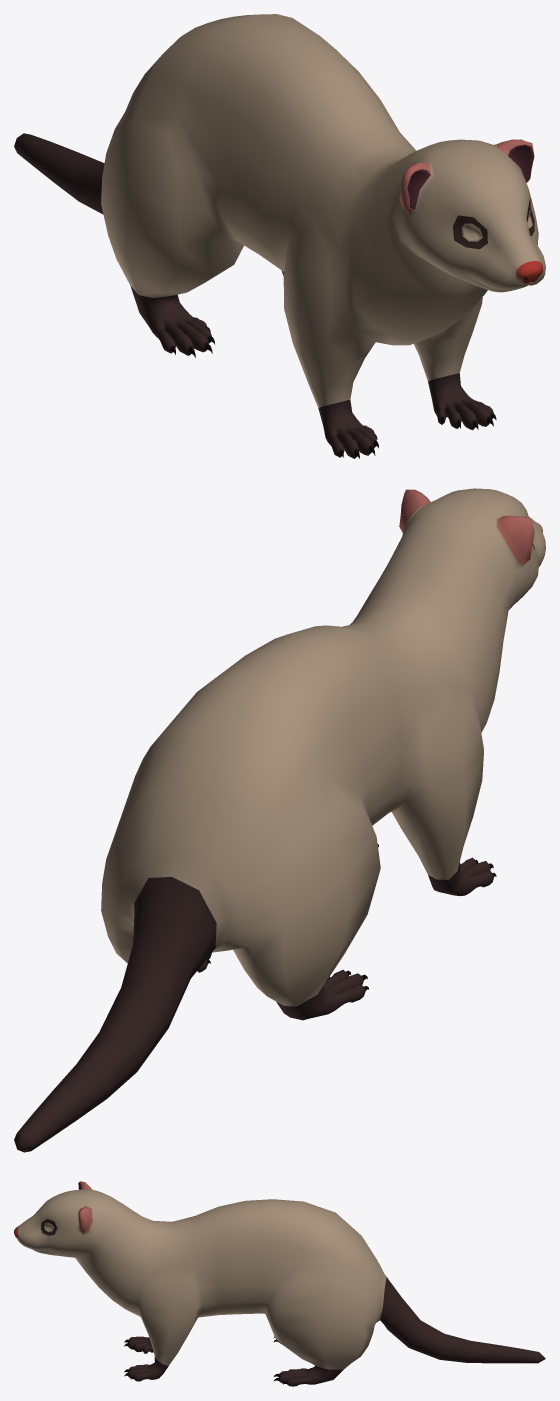
The model's file is ferret_ferret.obj.
The picture shows the model from 3 angles, top to bottom: view 1: azimuth 30°, elevation 25°; view 2: azimuth 150°, elevation 25°; view 3: azimuth 270°, elevation 25°; orthographic projection. The views are drawn at different scales.
Visible parts, largest first — view 1: ferret; view 2: ferret; view 3: ferret.
Boxes of the visible parts, box(x1,y1,x2,y2) form: ferret: box(14, 14, 545, 458); ferret: box(14, 488, 545, 1152); ferret: box(14, 1181, 545, 1386).
Size of the model in its own units: 0.1382 by 0.1942 by 0.5531.
